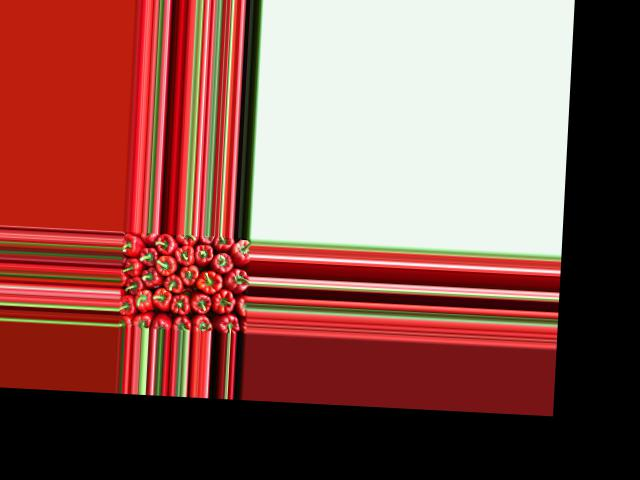bell_pepper: (123, 233, 144, 254)
